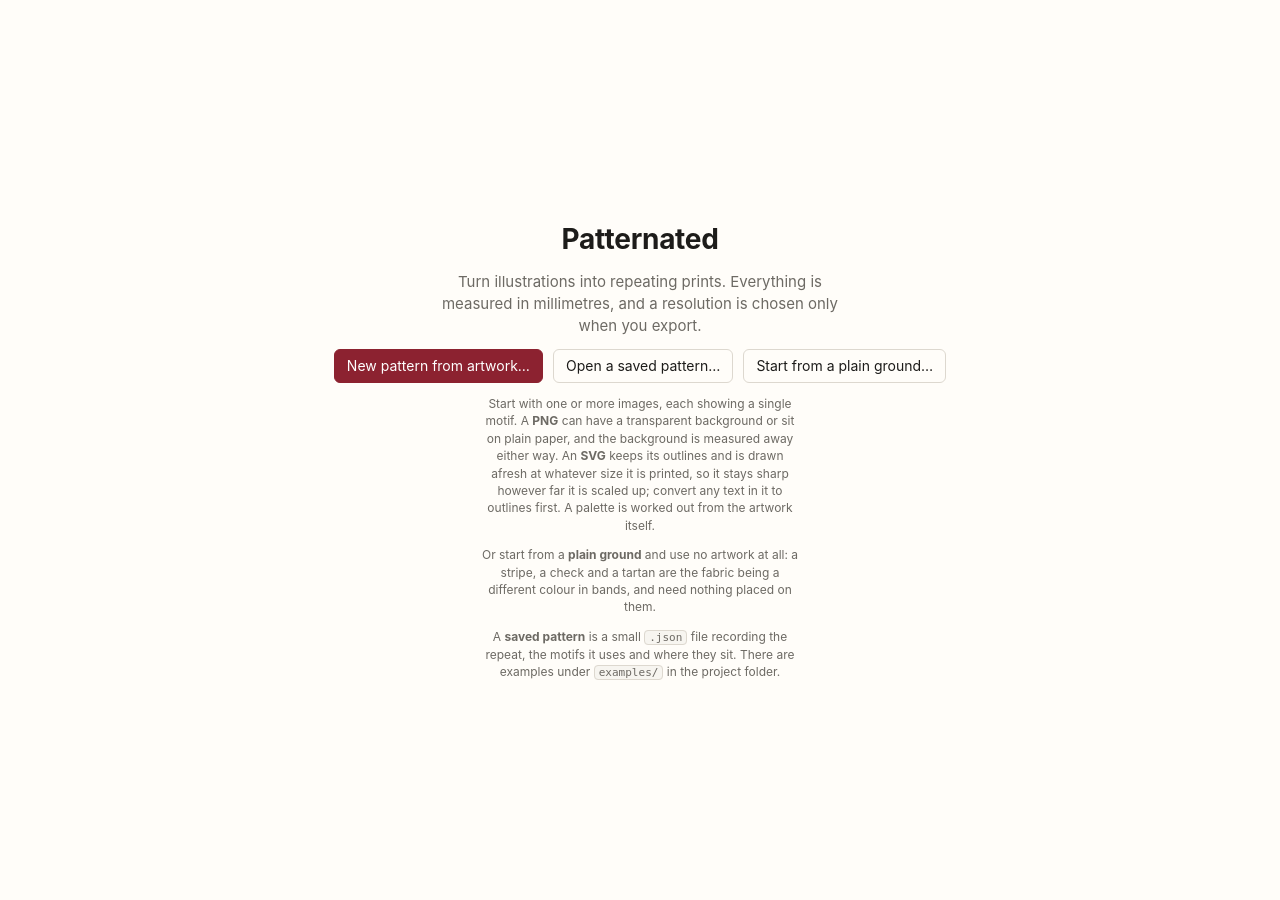
Test case: what the engine reports, the interface says › says nothing when the grid is the size asked for
The width and height of the screenshot is (1280, 900).
Step 1. Click the button "Open a saved pattern…" → (643, 366), box x1=553 y1=349 x2=733 y2=383
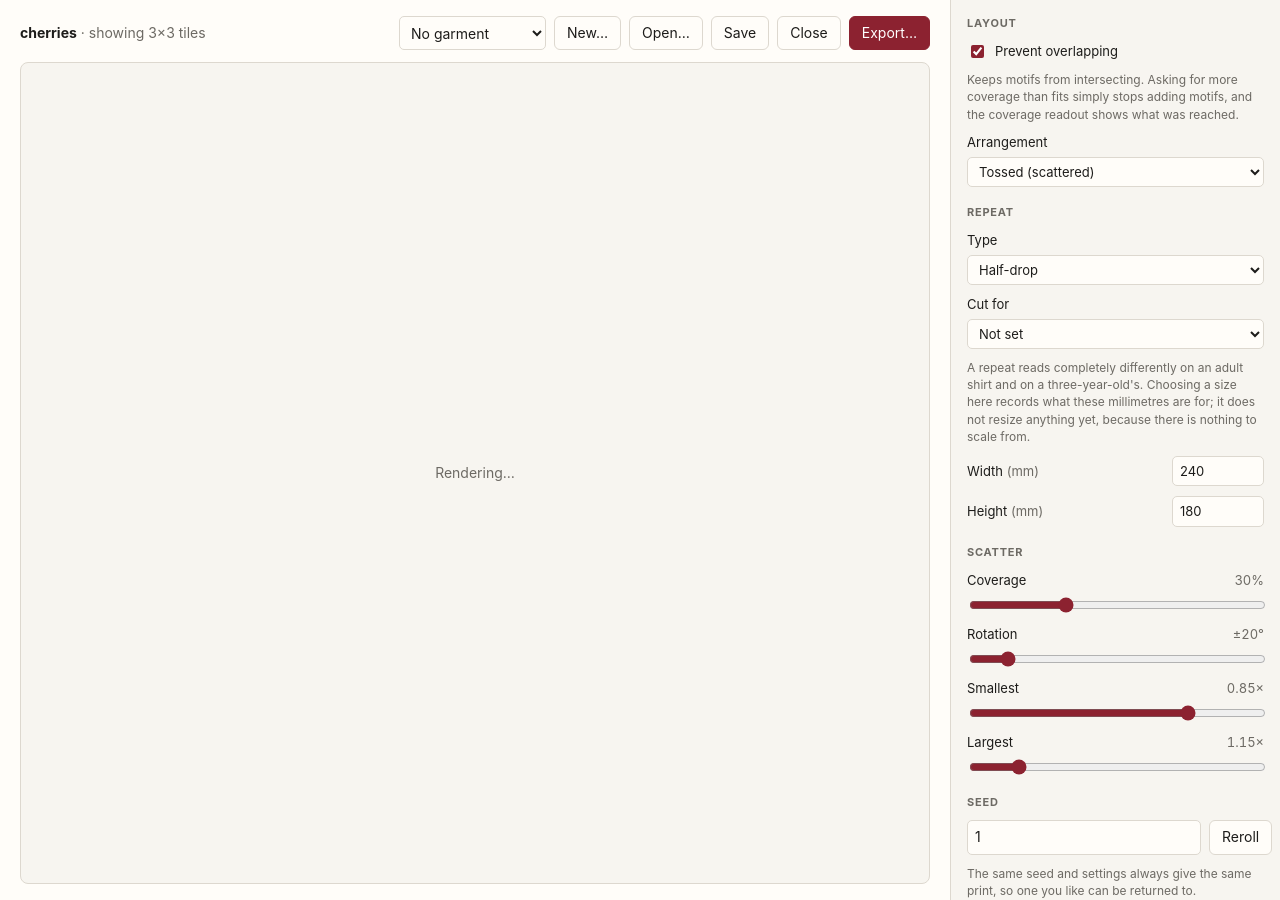
Expected: the button with test id "close" is shown, x1=777 y1=16 x2=841 y2=50
Step 2. Select "Square grid" in the dropdown with test id "layout" → (1116, 172), box x1=967 y1=157 x2=1264 y2=187
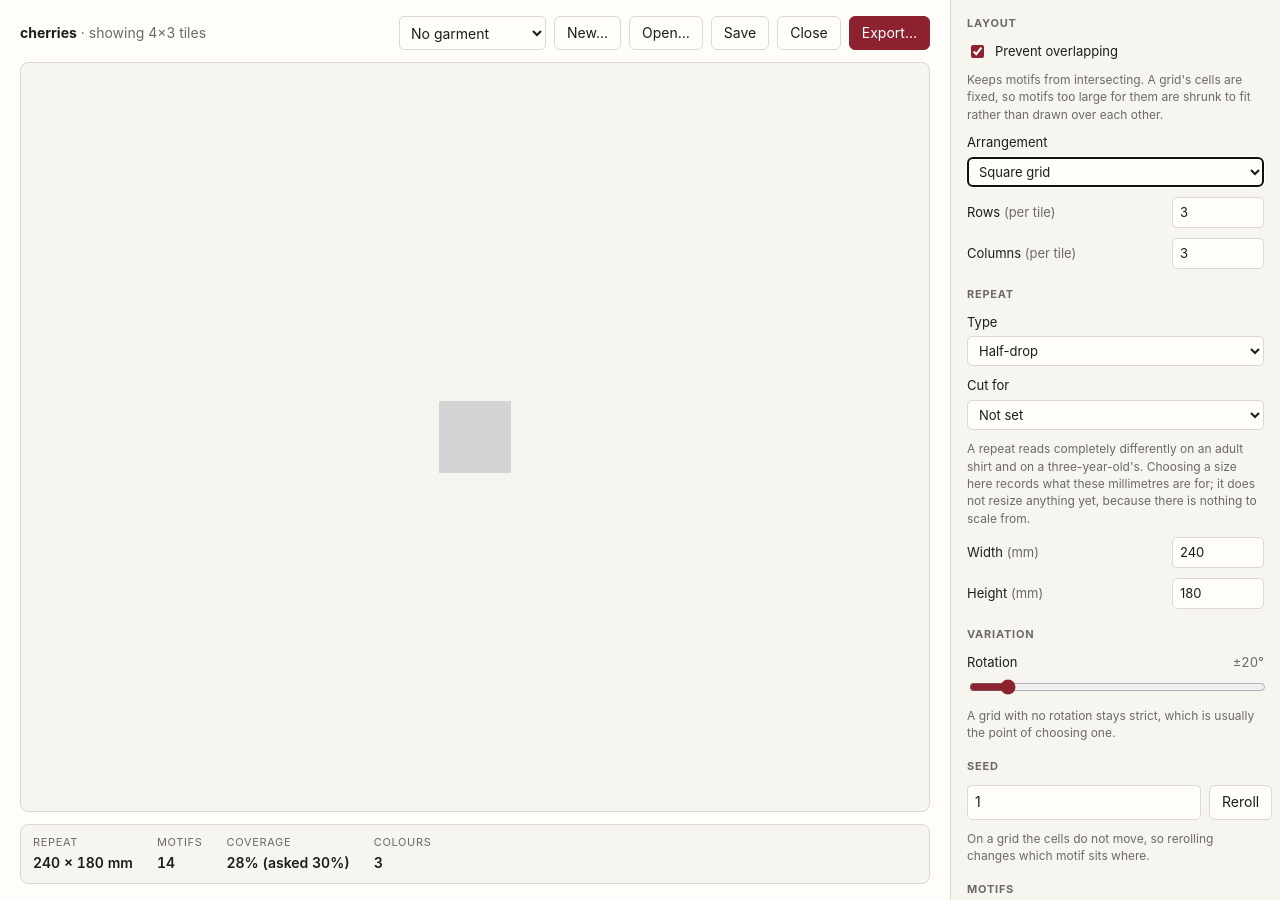
Expected: the number field with test id "grid-rows" is shown, x1=1172 y1=197 x2=1264 y2=228
